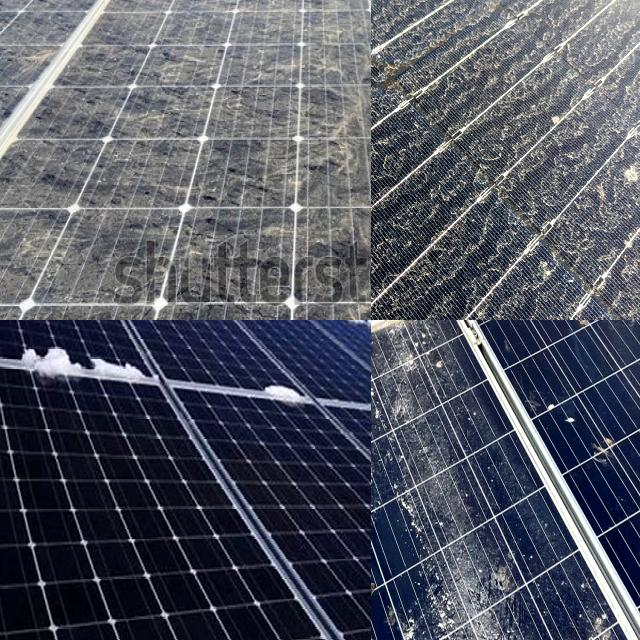bird: (448, 492, 508, 610), (397, 322, 448, 430), (371, 140, 422, 235), (371, 548, 418, 640), (566, 584, 640, 640), (371, 403, 401, 530), (454, 320, 541, 362), (371, 320, 413, 381), (590, 408, 626, 474), (395, 320, 434, 379), (371, 545, 407, 606), (546, 320, 612, 351), (371, 389, 393, 479), (558, 320, 618, 352), (371, 320, 407, 363), (488, 320, 542, 343), (371, 320, 389, 389), (371, 320, 400, 358), (371, 320, 395, 358), (371, 320, 390, 361)
dust: (466, 119, 636, 306), (82, 57, 371, 132), (371, 0, 457, 229), (7, 129, 168, 207), (490, 0, 640, 81), (54, 205, 174, 288), (199, 142, 371, 197), (131, 0, 364, 36), (183, 206, 290, 284), (371, 0, 443, 111), (0, 0, 93, 57), (316, 198, 371, 287), (371, 0, 465, 30), (0, 198, 25, 286)
panel: (13, 327, 149, 408), (30, 320, 246, 362), (255, 363, 313, 409), (290, 320, 371, 350), (0, 320, 68, 348), (87, 320, 171, 340), (196, 320, 258, 338)
